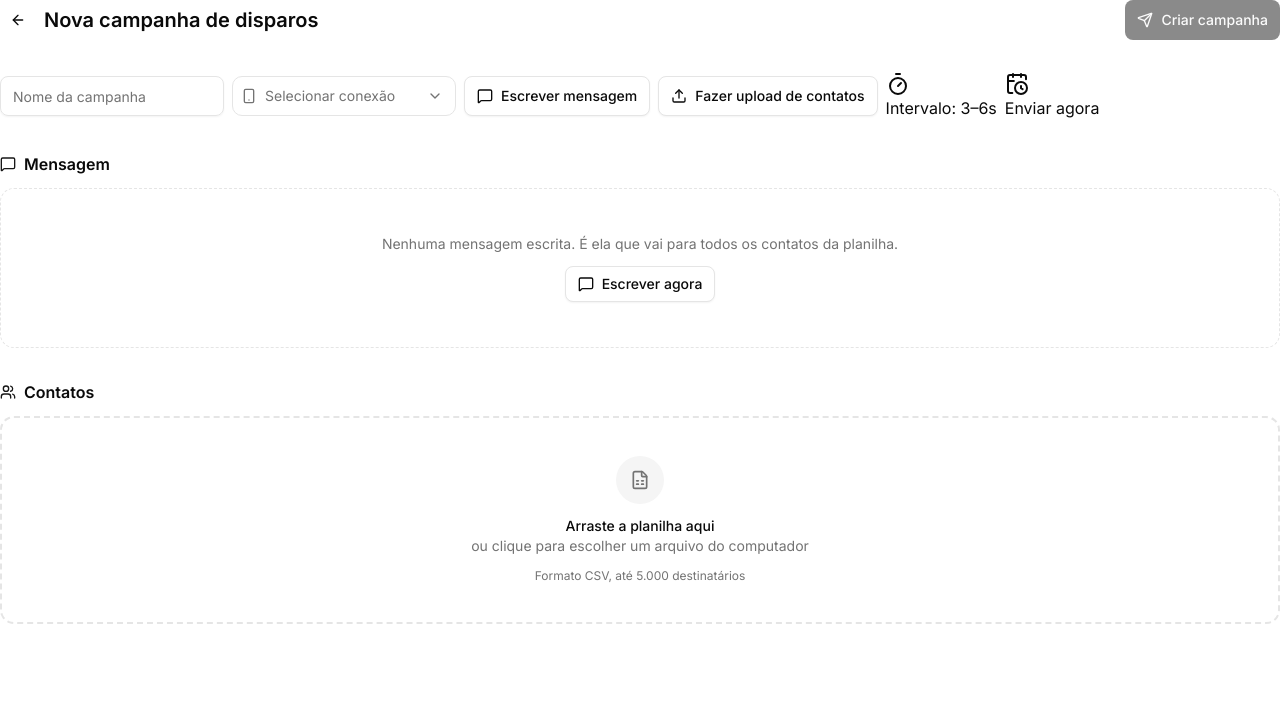
Test: FormularioCampanha — barra de ações › deixa a edição da mensagem para o dialog
Click the button "Escrever mensagem".
click(557, 96)  # box [464,76,650,116]
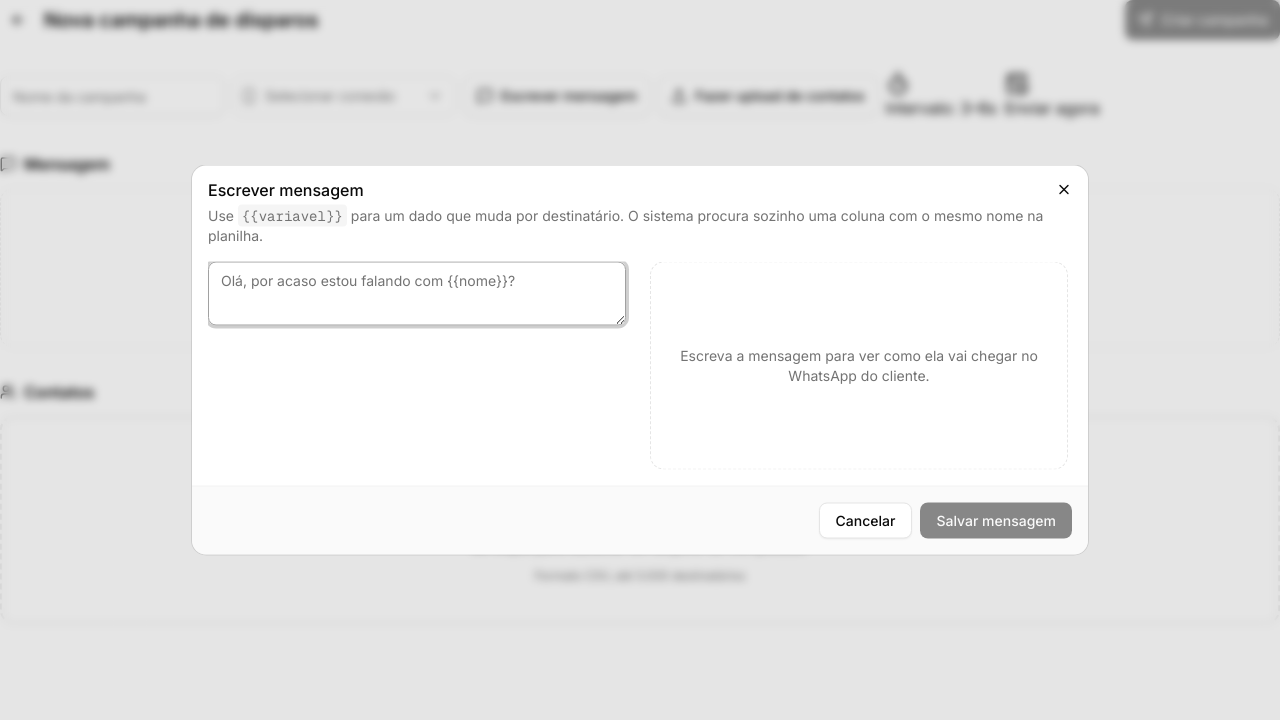
Type "Bom dia!" into the text box named "texto da mensagem".
click(417, 294); type("Bom dia!")  # box [208,262,626,326]
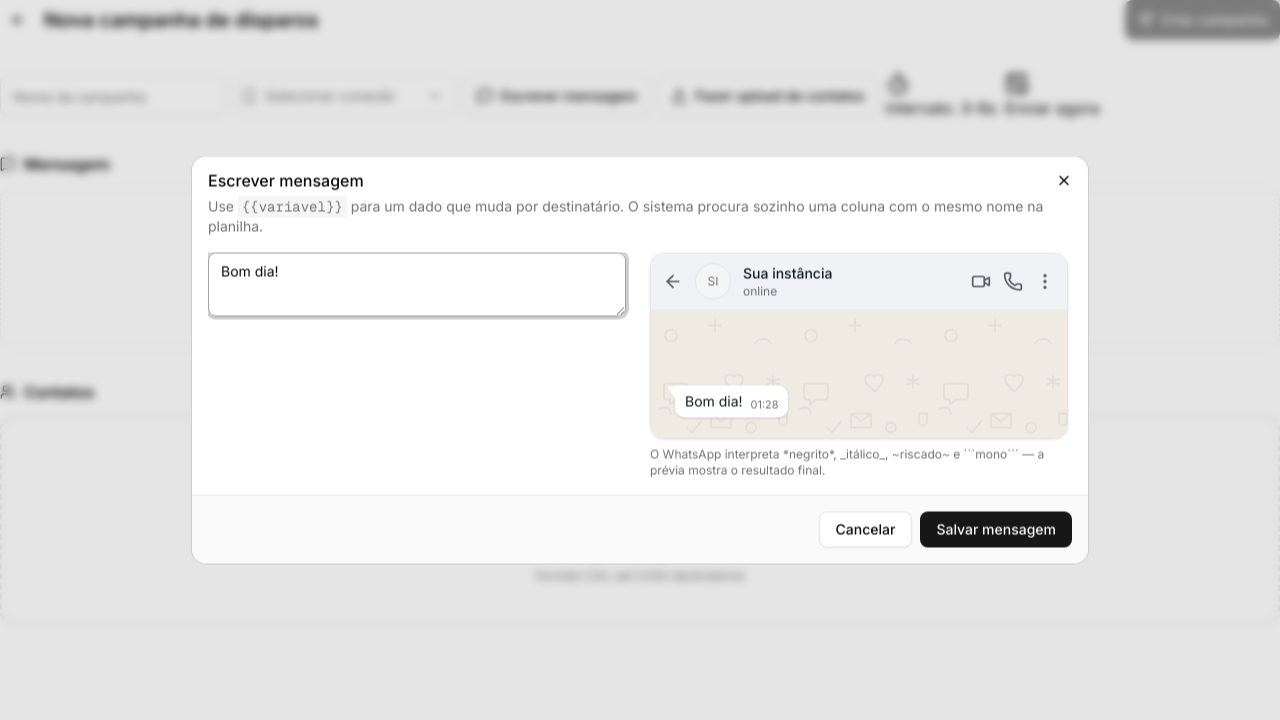
Click the button "Salvar mensagem".
click(996, 530)  # box [920,512,1072,548]
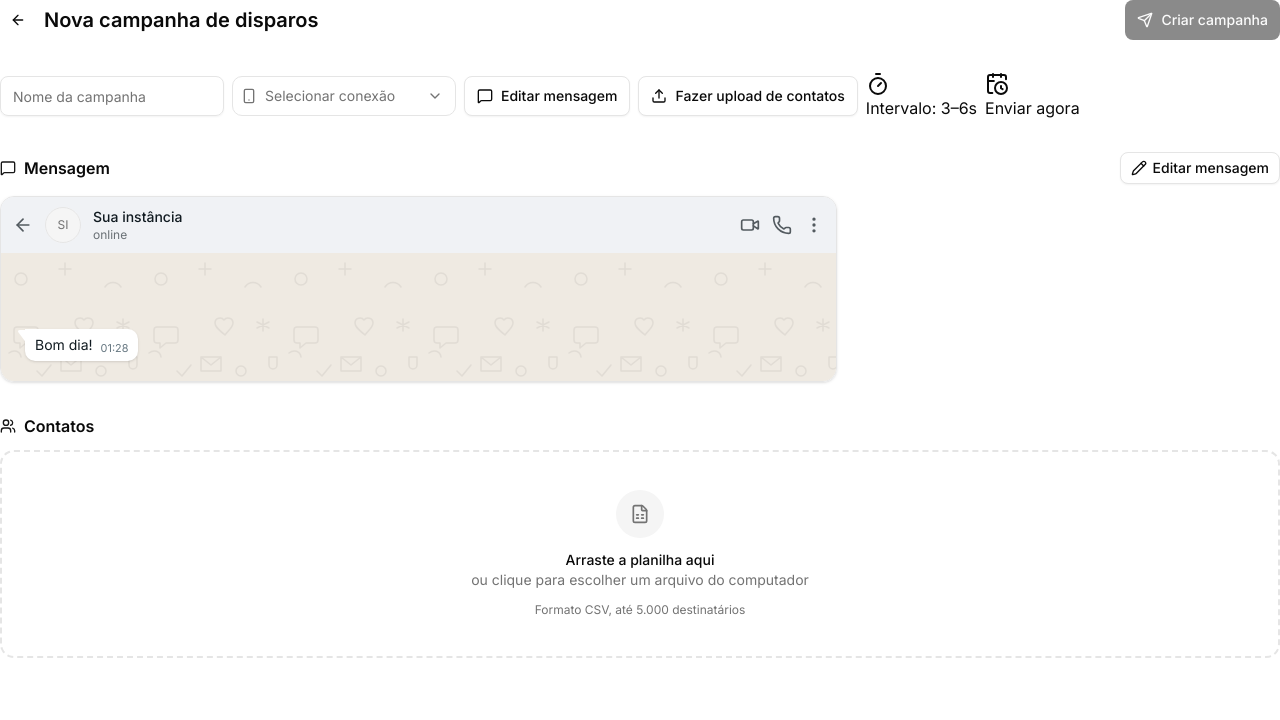
Expected: the text "Bom dia!" is shown, [35,336,93,353]
Expected: the 2nd button "Editar mensagem" is shown, [1120,152,1279,184]
